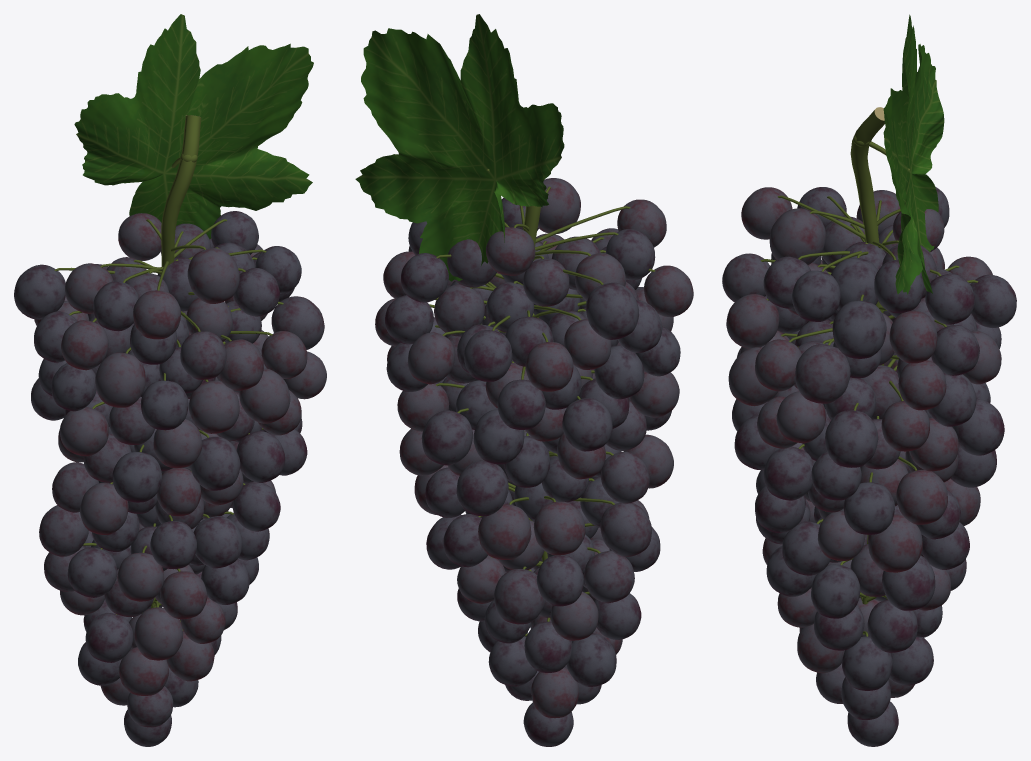
The model's file is kotsifali_bunch.glb.
3 renders of one model, left to right at view 1: azimuth 30°, elevation 25°; view 2: azimuth 150°, elevation 25°; view 3: azimuth 270°, elevation 25°, orthographic. The views are drawn at different scales.
Parts seen in each view (by area): view 1: Kotsifali_MuseumBunch; view 2: Kotsifali_MuseumBunch; view 3: Kotsifali_MuseumBunch.
Boxes of the visible parts, x1=… form: Kotsifali_MuseumBunch: x1=14, y1=14, x2=326, y2=746; Kotsifali_MuseumBunch: x1=355, y1=14, x2=693, y2=746; Kotsifali_MuseumBunch: x1=722, y1=14, x2=1016, y2=746.
Size of the model in its own units: 0.1103 by 0.2595 by 0.0917.
10 materials, 7 textured.
